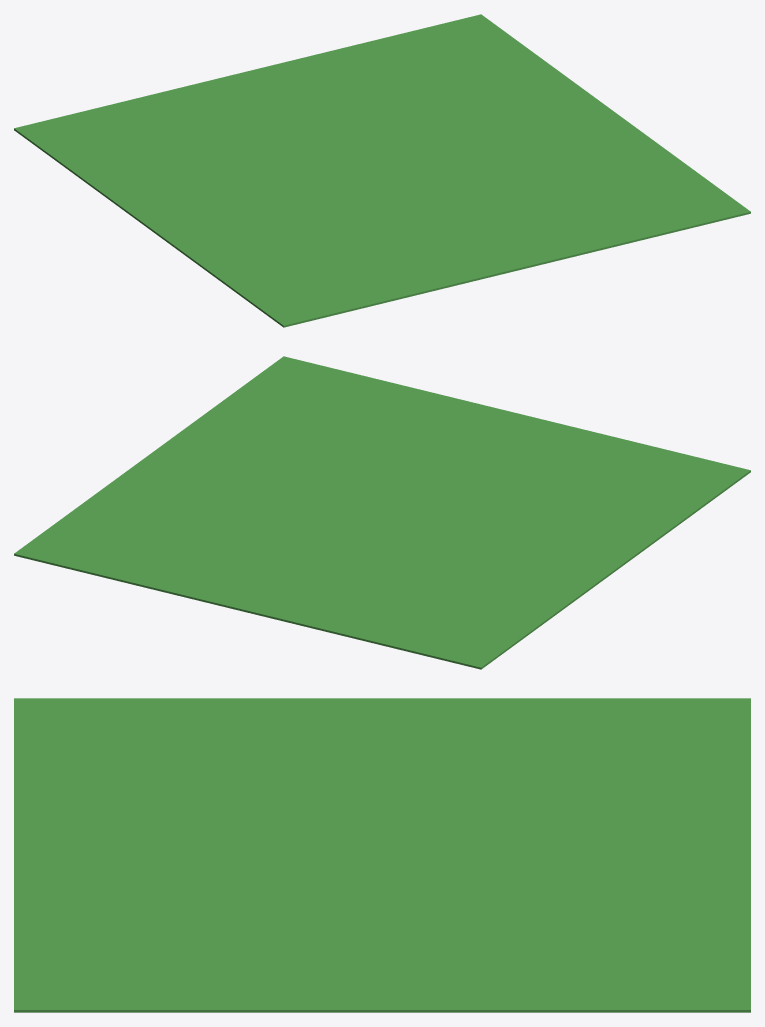
Rendered from Grass Tile.fbx.
The picture shows the model from 3 angles, top to bottom: view 1: azimuth 30°, elevation 25°; view 2: azimuth 150°, elevation 25°; view 3: azimuth 270°, elevation 25°; orthographic projection. The views are drawn at different scales.
Visible parts, largest first — view 1: Grass Tile; view 2: Grass Tile; view 3: Grass Tile.
Boxes of the visible parts, x1,y1,x2,y2 form: Grass Tile: [14, 14, 750, 327]; Grass Tile: [14, 356, 750, 669]; Grass Tile: [14, 698, 750, 1012].
Bounding box in the file's own units: 1500 × 5.96 × 1500.
